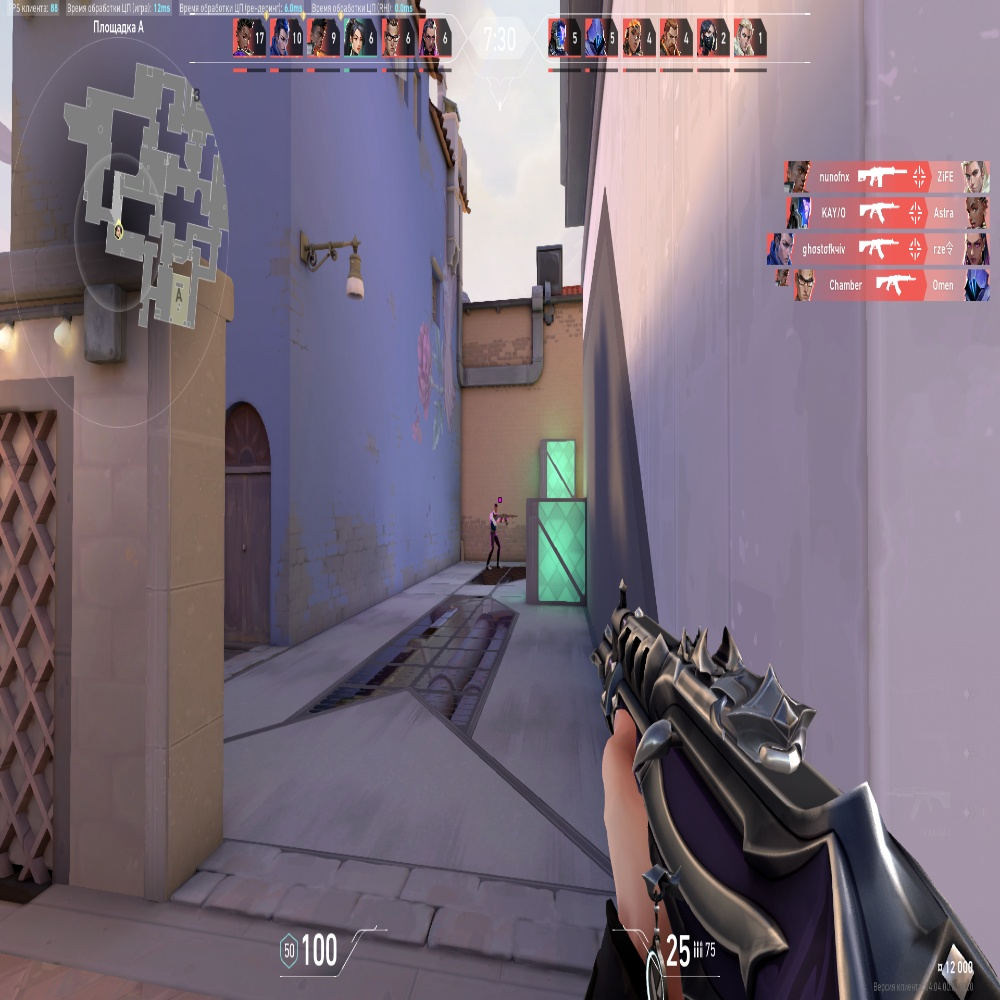body: (490, 513, 497, 534)
head: (493, 504, 498, 512)
